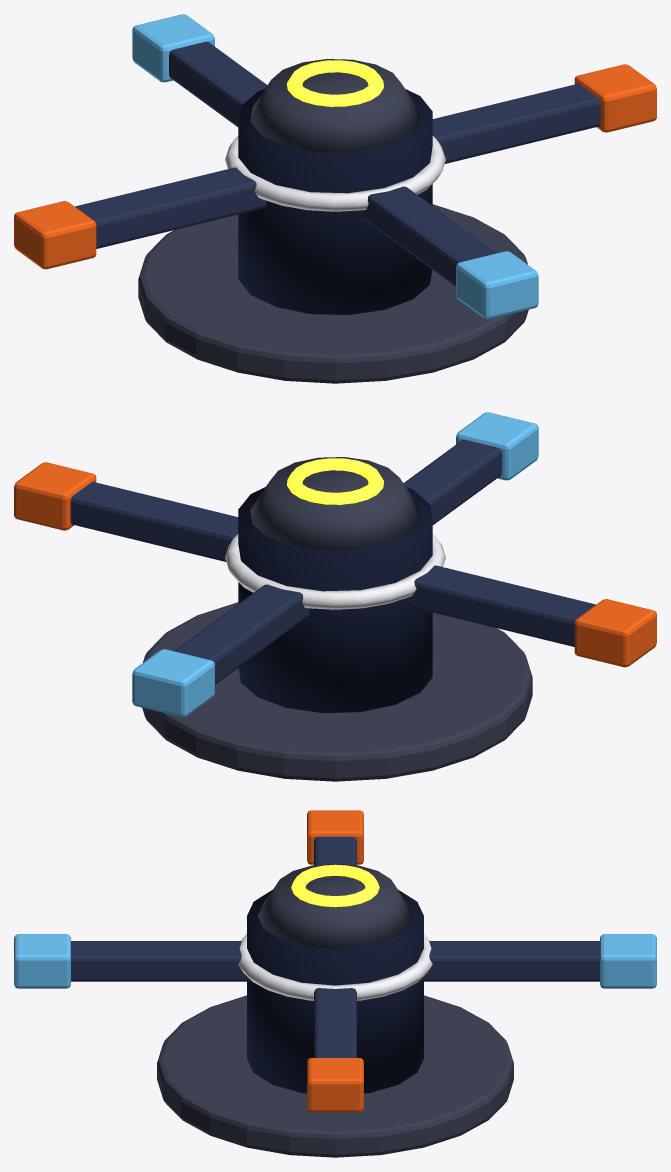
The model's file is moyeu.glb.
3 renders of one model, top to bottom at view 1: azimuth 30°, elevation 25°; view 2: azimuth 150°, elevation 25°; view 3: azimuth 270°, elevation 25°, orthographic. The views are drawn at different scales.
Visible parts, largest first — view 1: Socle, Fut, Tete, Bras2, Bras0, Bras3, Pointe3, Pointe2, Bras1, Bague, Pointe0, Pointe1 (+1 smaller); view 2: Socle, Fut, Tete, Bras2, Bras0, Bras1, Pointe1, Pointe2, Bras3, Bague, Pointe0, Pointe3 (+1 smaller); view 3: Socle, Fut, Tete, Bras1, Bras3, Bague, Pointe1, Pointe3, Pointe0, Bras0, Bouche, Pointe2 (+1 smaller).
Part boxes in pixels (x1,y1,x2,y2): Socle: (138,204,528,383); Fut: (238,89,432,314); Tete: (250,59,420,152); Bras2: (75,167,266,248); Bras0: (432,84,600,163); Bras3: (361,186,496,286); Pointe3: (456,251,538,319); Pointe2: (14,201,96,269); Bras1: (169,41,267,126); Bague: (225,136,445,211); Pointe0: (574,64,656,132); Pointe1: (132,14,214,82); Socle: (142,602,532,781); Fut: (238,487,432,712); Tete: (250,457,420,550); Bras2: (404,565,595,646); Bras0: (70,482,238,561); Bras1: (174,584,309,684); Pointe1: (132,649,214,717); Pointe2: (574,599,656,667); Bras3: (403,439,501,524); Bague: (225,534,445,609); Pointe0: (14,462,96,530); Pointe3: (456,412,538,480); Socle: (157,995,513,1157); Fut: (247,889,423,1093); Tete: (258,863,412,948); Bras1: (420,941,599,981); Bras3: (71,941,250,981); Bague: (238,934,432,1000); Pointe1: (600,934,656,988); Pointe3: (14,934,70,988); Pointe0: (307,1058,363,1112); Bras0: (314,988,356,1057); Bouche: (291,864,379,907); Pointe2: (307,810,363,864).
Bounding box in the file's own units: 4.5 × 1.56 × 4.5.
